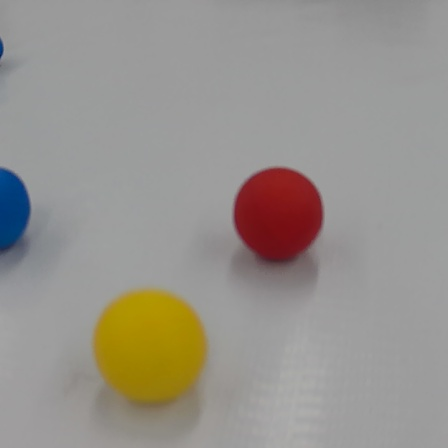blue: (0, 167, 35, 252)
red: (232, 166, 325, 261)
yellow: (90, 286, 210, 406)
